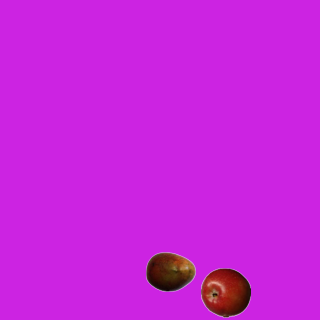Apple Braeburn: (200, 267, 250, 317)
Mango Red: (145, 246, 195, 296)
